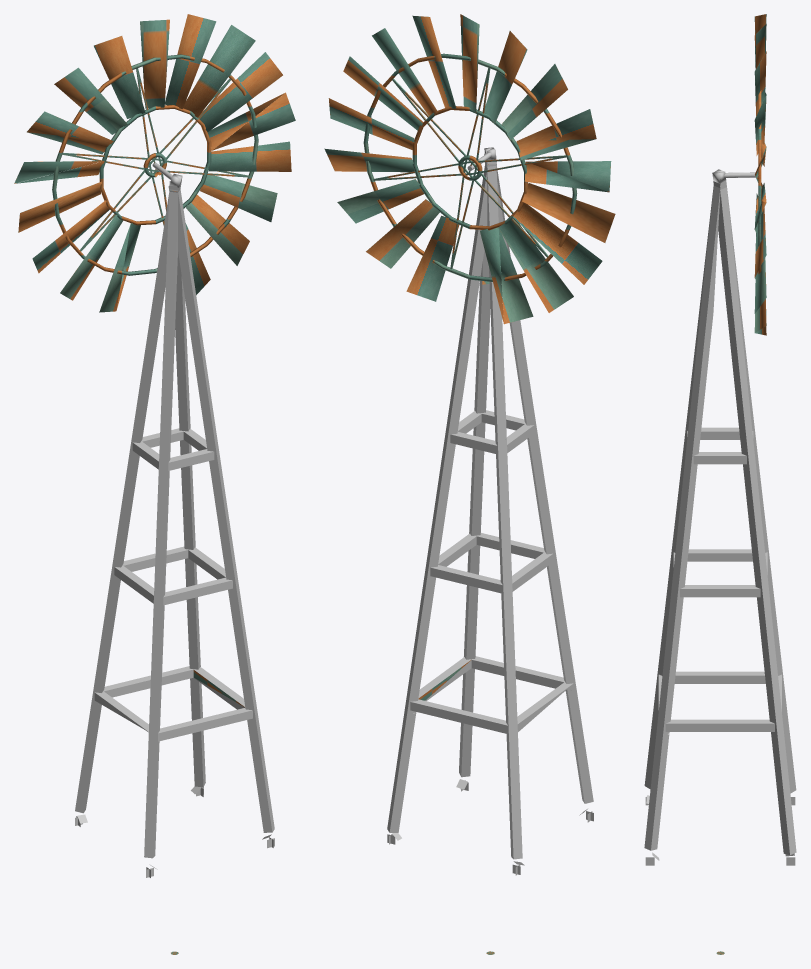
The model's file is molino trabajo.fbx.
The picture shows the model from 3 angles, left to right: view 1: azimuth 30°, elevation 25°; view 2: azimuth 150°, elevation 25°; view 3: azimuth 270°, elevation 25°; orthographic projection. The views are drawn at different scales.
Visible parts, largest first — view 1: windmill; view 2: windmill; view 3: windmill.
Boxes of the visible parts, box(x1,y1,x2,y2) form: windmill: box(14, 14, 295, 954); windmill: box(324, 14, 615, 954); windmill: box(644, 14, 796, 954).
Bounding box in the file's own units: 22495 × 71550 × 10684.
